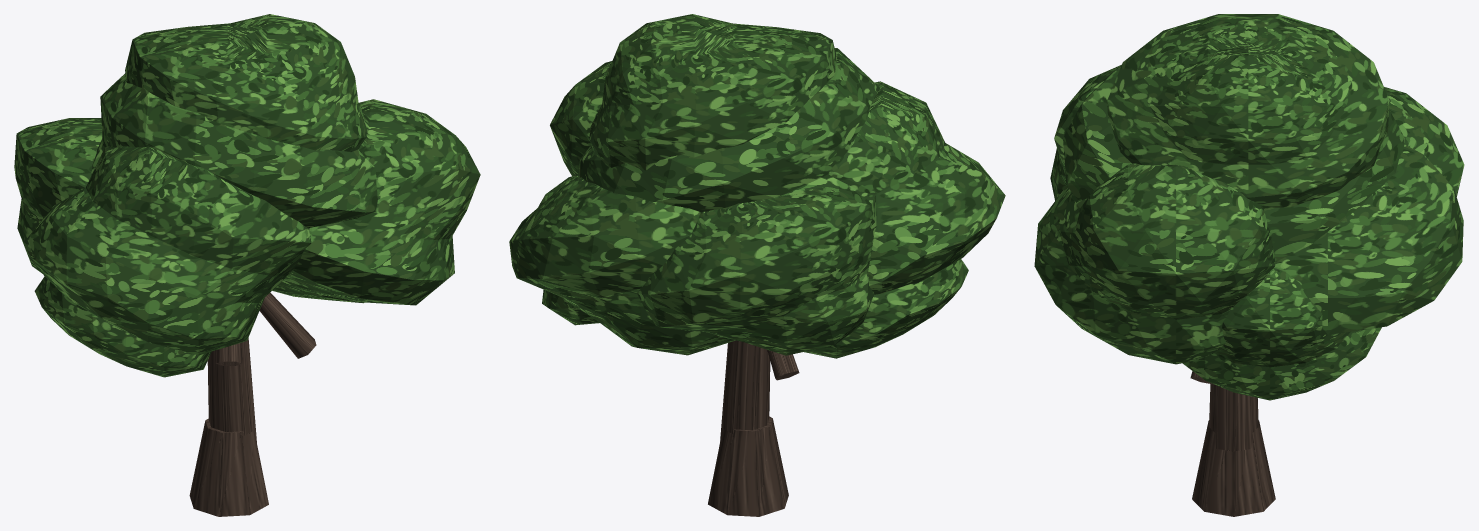
File: laurel_de_la_india.obj
3 views of the same model, side by side, from view 1: azimuth 30°, elevation 25°; view 2: azimuth 150°, elevation 25°; view 3: azimuth 270°, elevation 25° (orthographic). The views are drawn at different scales.
Visible parts, largest first — view 1: Follaje_Laurel_4, Follaje_Laurel_2, Follaje_Laurel_3, Follaje_Laurel_1, Follaje_Laurel_6, Mesh_1, Follaje_Laurel_8, Mesh_33, Mesh_65, Follaje_Laurel_7; view 2: Follaje_Laurel_6, Follaje_Laurel_2, Follaje_Laurel_4, Follaje_Laurel_5, Follaje_Laurel_1, Mesh_1, Follaje_Laurel_8, Mesh_33, Follaje_Laurel_3, Follaje_Laurel_7, Mesh_113; view 3: Follaje_Laurel_2, Follaje_Laurel_3, Follaje_Laurel_5, Follaje_Laurel_7, Follaje_Laurel_1, Mesh_1, Follaje_Laurel_6, Mesh_33, Follaje_Laurel_4.
Boxes of the visible parts, x1=… form: Follaje_Laurel_4: x1=27, y1=146, x2=311, y2=355; Follaje_Laurel_2: x1=125, y1=14, x2=366, y2=151; Follaje_Laurel_3: x1=280, y1=99, x2=480, y2=305; Follaje_Laurel_1: x1=91, y1=73, x2=377, y2=228; Follaje_Laurel_6: x1=14, y1=118, x2=102, y2=273; Mesh_1: x1=189, y1=418, x2=268, y2=516; Follaje_Laurel_8: x1=34, y1=276, x2=211, y2=377; Mesh_33: x1=207, y1=338, x2=256, y2=442; Mesh_65: x1=259, y1=292, x2=316, y2=358; Follaje_Laurel_7: x1=272, y1=283, x2=364, y2=303; Follaje_Laurel_6: x1=637, y1=187, x2=876, y2=355; Follaje_Laurel_2: x1=589, y1=14, x2=836, y2=170; Follaje_Laurel_4: x1=828, y1=81, x2=1005, y2=294; Follaje_Laurel_5: x1=509, y1=176, x2=735, y2=355; Follaje_Laurel_1: x1=578, y1=48, x2=879, y2=212; Mesh_1: x1=708, y1=416, x2=788, y2=516; Follaje_Laurel_8: x1=804, y1=259, x2=968, y2=358; Mesh_33: x1=720, y1=340, x2=770, y2=441; Follaje_Laurel_3: x1=550, y1=61, x2=612, y2=176; Follaje_Laurel_7: x1=538, y1=175, x2=599, y2=325; Mesh_113: x1=767, y1=350, x2=799, y2=380; Follaje_Laurel_2: x1=1107, y1=14, x2=1389, y2=208; Follaje_Laurel_3: x1=1034, y1=163, x2=1275, y2=364; Follaje_Laurel_5: x1=1274, y1=144, x2=1463, y2=334; Follaje_Laurel_7: x1=1182, y1=267, x2=1381, y2=400; Follaje_Laurel_1: x1=1063, y1=67, x2=1404, y2=261; Mesh_1: x1=1192, y1=420, x2=1275, y2=516; Follaje_Laurel_6: x1=1384, y1=87, x2=1464, y2=196; Mesh_33: x1=1209, y1=384, x2=1258, y2=451; Follaje_Laurel_4: x1=1050, y1=65, x2=1121, y2=200.
Bounding box in the file's own units: 6.7 × 7.11 × 5.95.
2 materials, 2 textured.
